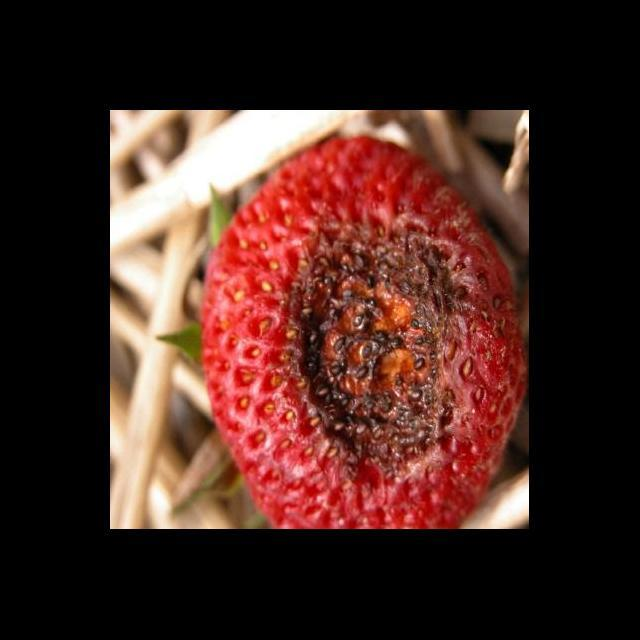Anthracnose Fruit Rot: (273, 216, 476, 486)
